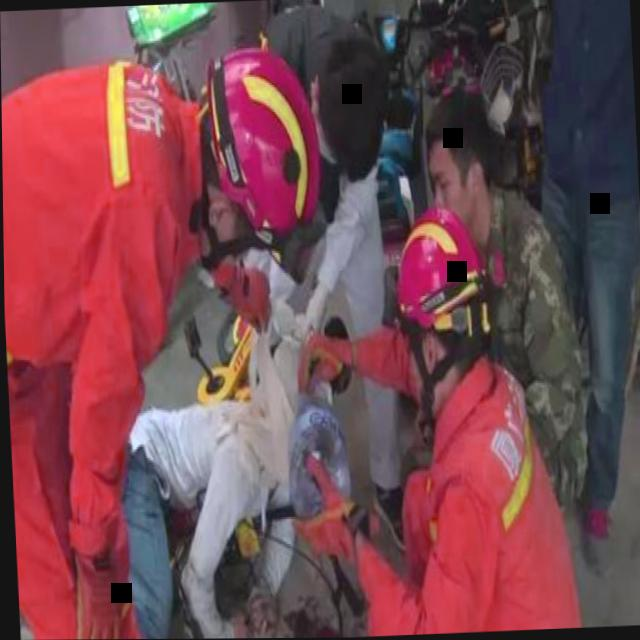Fall-Detected: (210, 392, 388, 639)
